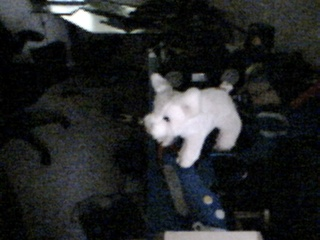piggy: (140, 72, 244, 169)
